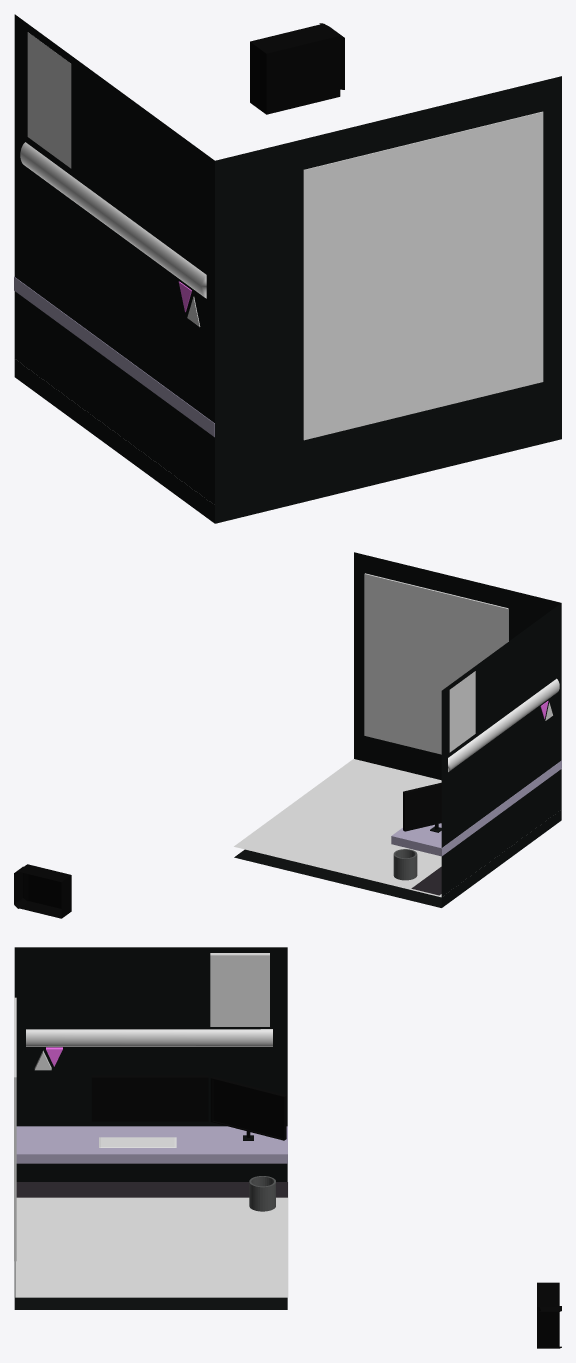
Rendered from setup.glb.
The picture shows the model from 3 angles, top to bottom: view 1: azimuth 30°, elevation 25°; view 2: azimuth 150°, elevation 25°; view 3: azimuth 270°, elevation 25°; orthographic projection. The views are drawn at different scales.
Visible parts, largest first — view 1: Cube, Cube.003, Cube.006, Cube.002, Cylinder, Cube.001; view 2: Cube, Cube.003, Plane, Cube.006, Cube.001, Cube.002, Cylinder, Cube.007, Cylinder.001, Plane.001; view 3: Cube, Plane, Cube.001, Cube.005, Cylinder, Cube.002, Plane.001, Cube.007, Cube.006, Cylinder.001, Plane.002, Cube.003.
Boxes of the visible parts, left/top/right/bottom form: Cube: left=14, top=14, right=561, bottom=523; Cube.003: left=303, top=111, right=543, bottom=440; Cube.006: left=250, top=23, right=344, bottom=114; Cube.002: left=27, top=32, right=71, bottom=168; Cylinder: left=20, top=142, right=206, bottom=298; Cube.001: left=14, top=276, right=214, bottom=437; Cube: left=234, top=552, right=561, bottom=907; Cube.003: left=364, top=573, right=508, bottom=754; Plane: left=234, top=759, right=441, bottom=897; Cube.006: left=14, top=864, right=71, bottom=918; Cube.001: left=391, top=760, right=561, bottom=856; Cube.002: left=449, top=671, right=475, bottom=752; Cylinder: left=448, top=678, right=559, bottom=771; Cube.007: left=403, top=782, right=441, bottom=831; Cylinder.001: left=393, top=849, right=417, bottom=880; Plane.001: left=411, top=866, right=441, bottom=895; Cube: left=14, top=947, right=287, bottom=1309; Plane: left=15, top=1182, right=288, bottom=1297; Cube.001: left=16, top=1126, right=287, bottom=1163; Cube.005: left=91, top=1075, right=208, bottom=1121; Cylinder: left=26, top=1029, right=272, bottom=1046; Cube.002: left=210, top=953, right=269, bottom=1026; Plane.001: left=16, top=1182, right=287, bottom=1197; Cube.007: left=210, top=1076, right=286, bottom=1140; Cube.006: left=537, top=1282, right=561, bottom=1348; Cylinder.001: left=249, top=1176, right=275, bottom=1211; Plane.002: left=99, top=1137, right=176, bottom=1147; Cube.003: left=14, top=997, right=16, bottom=1261.
Size of what is drawn, in the model's own units: 3.06 by 2.05 by 4.11.
